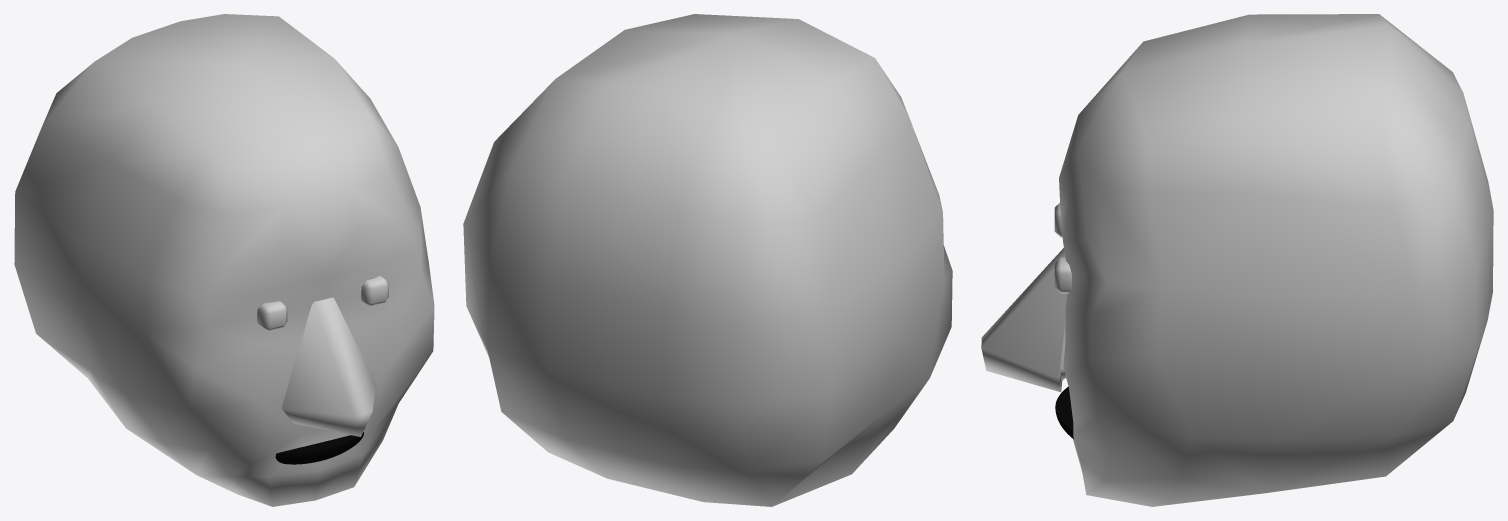
File: head_neutral_NPC.fbx
3 views of the same model, side by side, from view 1: azimuth 30°, elevation 25°; view 2: azimuth 150°, elevation 25°; view 3: azimuth 270°, elevation 25° (orthographic). The views are drawn at different scales.
Parts seen in each view (by area): view 1: node_id4, root; view 2: node_id4; view 3: node_id4, root.
Part boxes in pixels (x1,y1,x2,y2): node_id4: [14, 14, 434, 506]; root: [275, 432, 363, 464]; node_id4: [463, 14, 952, 506]; node_id4: [981, 14, 1493, 506]; root: [1055, 386, 1073, 439].
Bounding box in the file's own units: 0.4278 × 0.512 × 0.5364.
2 materials, 1 textured.
